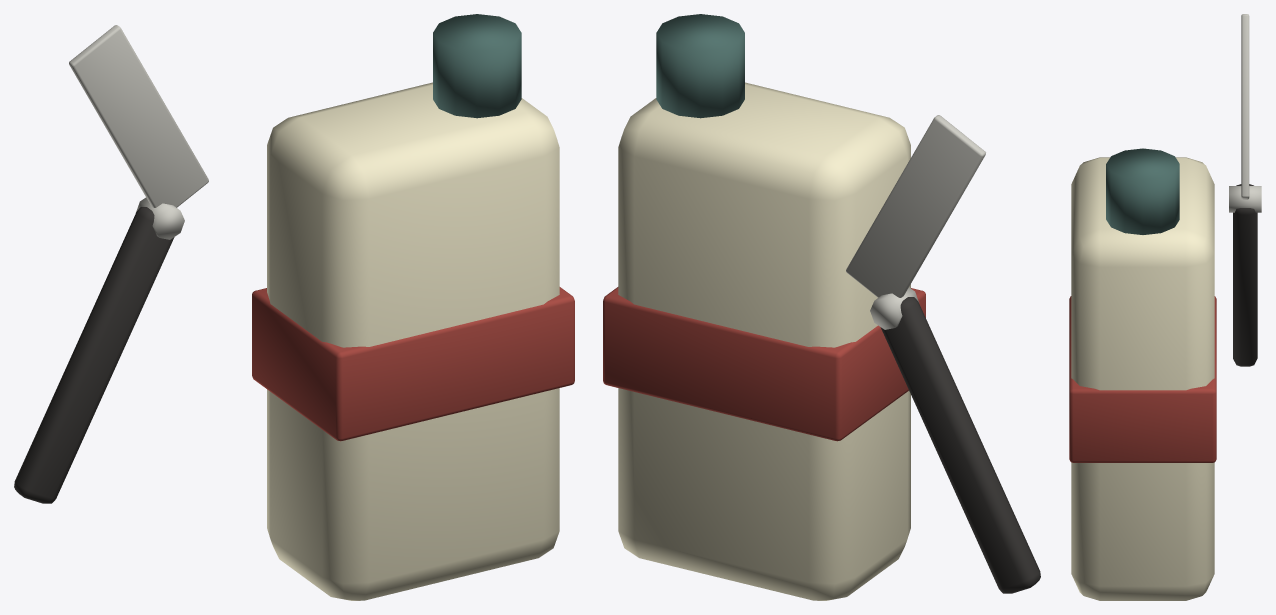
The model's file is razor.glb.
3 views of the same model, side by side, from view 1: azimuth 30°, elevation 25°; view 2: azimuth 150°, elevation 25°; view 3: azimuth 270°, elevation 25° (orthographic). The views are drawn at different scales.
Visible parts, largest first — view 1: jug, label, scales, blade, cap, pivot; view 2: jug, label, scales, blade, cap, pivot; view 3: jug, label, cap, scales, blade, pivot.
Part boxes in pixels (box(x1,y1,x2,y2)): jug: box(267, 82, 559, 600); label: box(252, 287, 574, 441); scales: box(14, 207, 174, 503); blade: box(69, 25, 208, 207); cap: box(433, 14, 521, 118); pivot: box(136, 197, 184, 239); jug: box(618, 82, 910, 600); label: box(603, 287, 925, 441); scales: box(880, 297, 1040, 593); blade: box(846, 115, 985, 297); cap: box(656, 14, 744, 118); pivot: box(870, 287, 918, 329); jug: box(1071, 157, 1214, 600); label: box(1069, 296, 1216, 462); cap: box(1106, 148, 1179, 234); scales: box(1233, 184, 1257, 366); blade: box(1241, 14, 1249, 199); pivot: box(1229, 186, 1261, 212).
Bounding box in the file's own units: 0.2129 × 0.2454 × 0.094.
